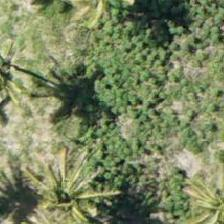coconut_tree: (12, 131, 102, 221), (171, 161, 223, 223)
